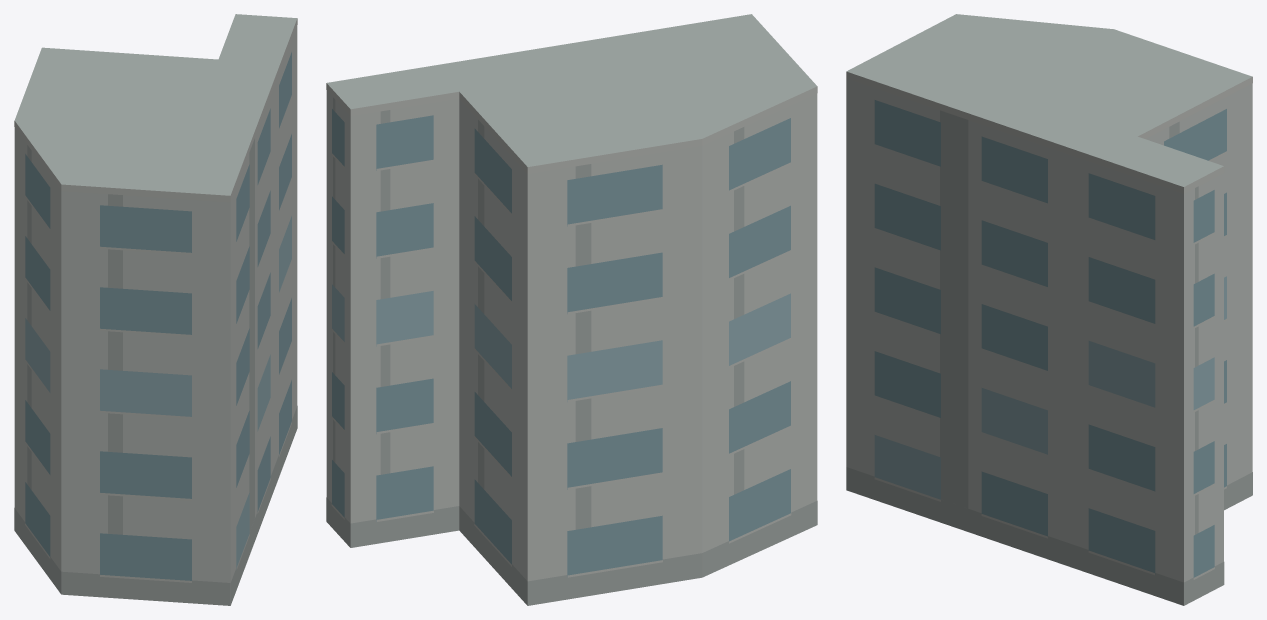
Rendered from residential-7891bc55-0c5e-444d-a303-222075a07a90.glb.
The picture shows the model from 3 angles, left to right: view 1: azimuth 30°, elevation 25°; view 2: azimuth 150°, elevation 25°; view 3: azimuth 270°, elevation 25°; orthographic projection. The views are drawn at different scales.
Parts seen in each view (by area): view 1: residential-7891bc55-0c5e-444d-a303-222075a07a90.tmp; view 2: residential-7891bc55-0c5e-444d-a303-222075a07a90.tmp; view 3: residential-7891bc55-0c5e-444d-a303-222075a07a90.tmp.
Part boxes in pixels (x1,y1,x2,y2): residential-7891bc55-0c5e-444d-a303-222075a07a90.tmp: [14, 14, 297, 605]; residential-7891bc55-0c5e-444d-a303-222075a07a90.tmp: [326, 14, 817, 605]; residential-7891bc55-0c5e-444d-a303-222075a07a90.tmp: [846, 14, 1252, 605].
Bounding box in the file's own units: 13.53 × 15.25 × 13.42.
